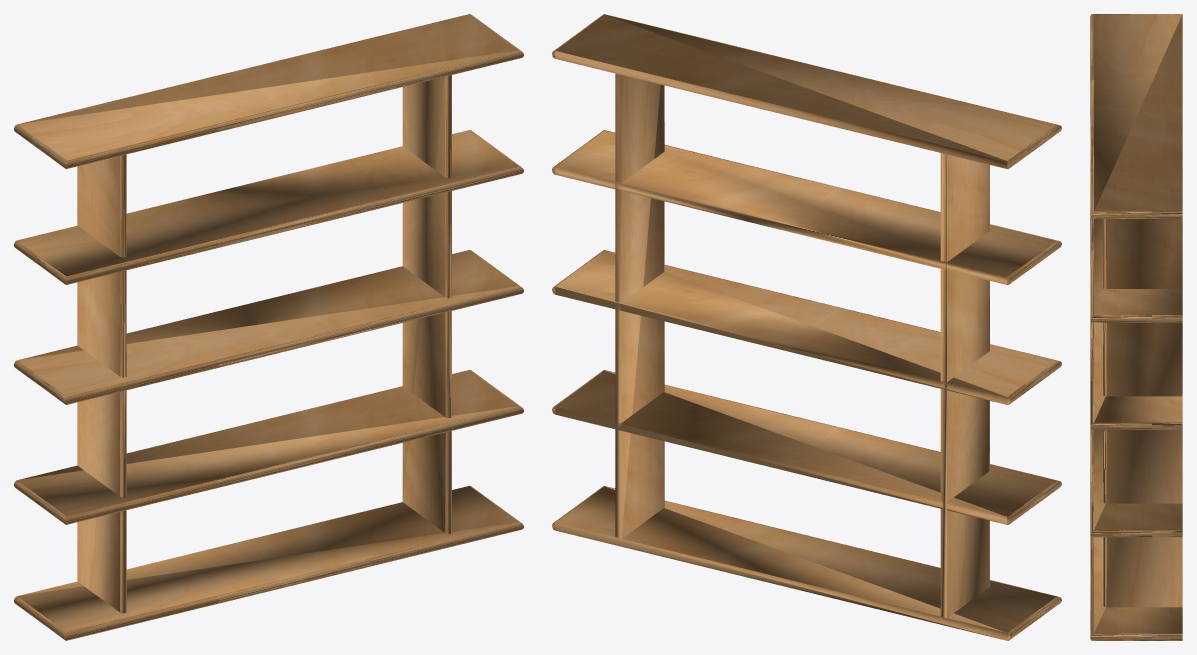
File: estanteria.glb
3 renders of one model, left to right at view 1: azimuth 30°, elevation 25°; view 2: azimuth 150°, elevation 25°; view 3: azimuth 270°, elevation 25°, orthographic. The views are drawn at different scales.
Visible parts, largest first — view 1: estanteria; view 2: estanteria; view 3: estanteria.
Boxes of the visible parts, x1=… form: estanteria: x1=14, y1=14, x2=523, y2=640; estanteria: x1=552, y1=14, x2=1061, y2=640; estanteria: x1=1090, y1=14, x2=1182, y2=640.
Bounding box in the file's own units: 180 × 180 × 35.
1 material, 1 textured.
